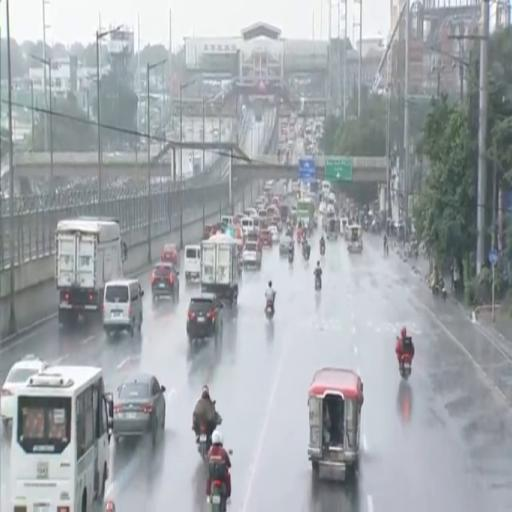bus: (11, 366, 113, 511), (297, 198, 314, 223)
car: (113, 373, 166, 445), (0, 355, 48, 427), (103, 279, 143, 337), (187, 293, 223, 345), (151, 262, 179, 301), (243, 242, 261, 269), (161, 244, 179, 265), (246, 230, 262, 250), (279, 234, 293, 254), (260, 228, 273, 248), (269, 226, 279, 243)
jeepney: (308, 367, 363, 481)
motorcycle: (208, 464, 227, 511), (209, 479, 226, 511), (197, 424, 211, 461), (198, 424, 211, 460), (432, 280, 447, 300), (400, 355, 411, 380), (265, 300, 275, 320), (303, 246, 310, 261), (315, 275, 321, 291), (297, 230, 302, 244), (384, 244, 389, 257), (288, 252, 293, 264), (321, 244, 325, 255)
truck: (56, 217, 127, 326), (201, 234, 238, 307)
